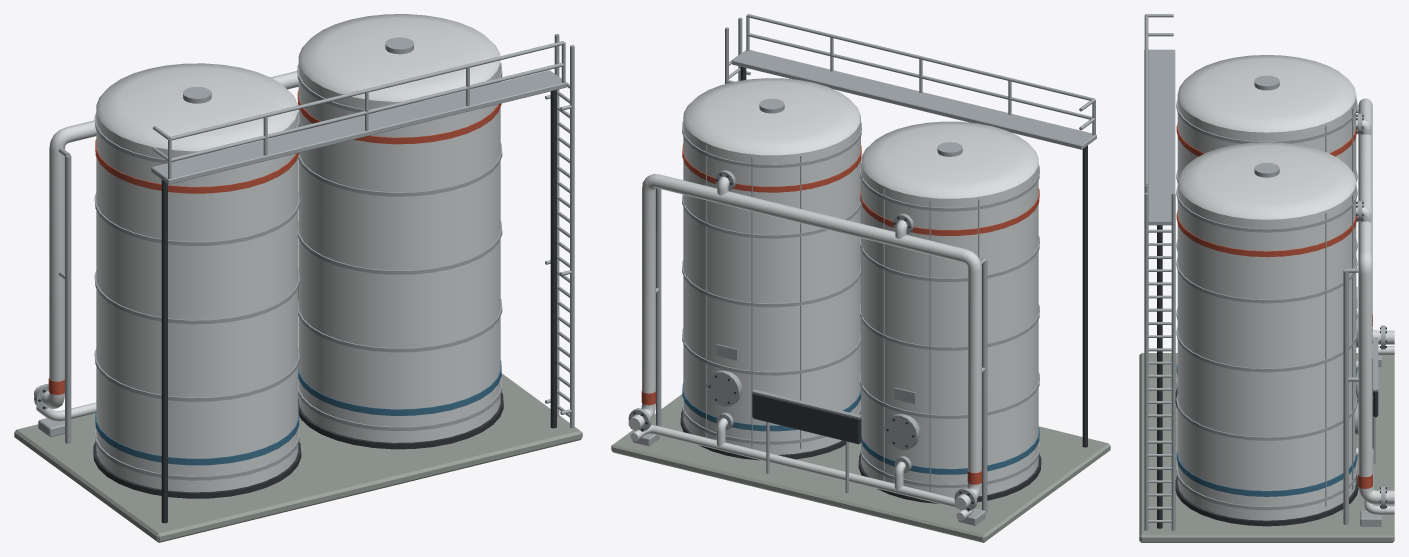
Rendered from thermal_store.glb.
3 views of the same model, side by side, from view 1: azimuth 30°, elevation 25°; view 2: azimuth 150°, elevation 25°; view 3: azimuth 270°, elevation 25° (orthographic). The views are drawn at different scales.
Parts seen in each view (by area): view 1: ThermalAssembly; view 2: ThermalAssembly; view 3: ThermalAssembly.
Part boxes in pixels (x1=…): ThermalAssembly: x1=14, y1=14, x2=582, y2=542; ThermalAssembly: x1=611, y1=14, x2=1110, y2=542; ThermalAssembly: x1=1139, y1=14, x2=1394, y2=542.
Bounding box in the file's own units: 0.85 × 0.7635 × 0.5.
